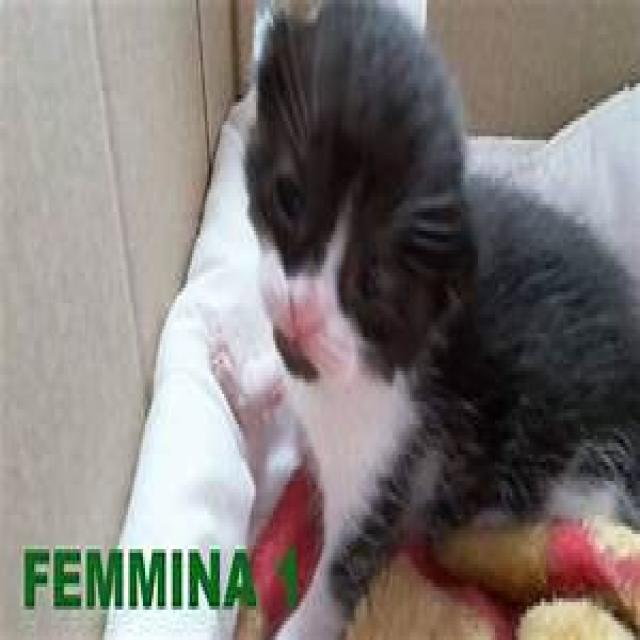cat: (209, 0, 638, 636)
